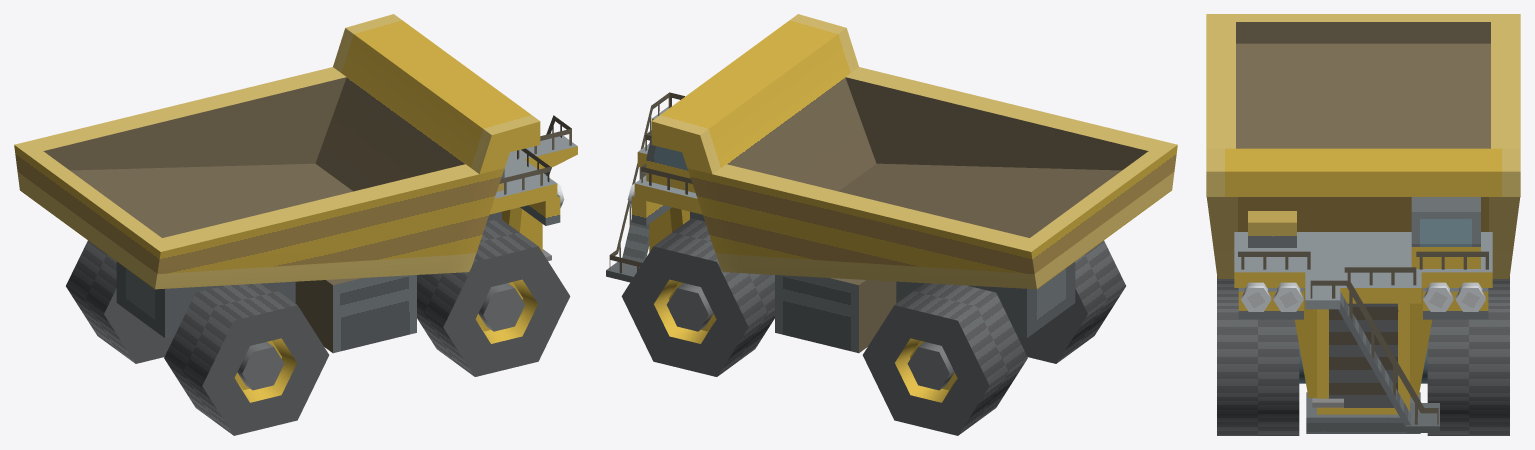
The model's file is Universal_Building_Mine_L3_01_Mod.fbx.
3 views of the same model, side by side, from view 1: azimuth 30°, elevation 25°; view 2: azimuth 150°, elevation 25°; view 3: azimuth 270°, elevation 25° (orthographic). The views are drawn at different scales.
Parts seen in each view (by area): view 1: Universal_Building_Mine_L3_01_Mod, Universal_Building_Mine_L3_FrontWheel_01_Mod; view 2: Universal_Building_Mine_L3_01_Mod, Universal_Building_Mine_L3_FrontWheel_02_Mod; view 3: Universal_Building_Mine_L3_01_Mod, Universal_Building_Mine_L3_FrontWheel_01_Mod, Universal_Building_Mine_L3_FrontWheel_02_Mod.
Boxes of the visible parts, x1,y1,x2,y2 form: Universal_Building_Mine_L3_01_Mod: (14,14,577,435); Universal_Building_Mine_L3_FrontWheel_01_Mod: (417,218,570,376); Universal_Building_Mine_L3_01_Mod: (606,14,1177,435); Universal_Building_Mine_L3_FrontWheel_02_Mod: (621,218,774,376); Universal_Building_Mine_L3_01_Mod: (1206,14,1520,433); Universal_Building_Mine_L3_FrontWheel_01_Mod: (1217,279,1299,435); Universal_Building_Mine_L3_FrontWheel_02_Mod: (1427,279,1509,435).
Bounding box in the file's own units: 1193 × 602 × 654.
